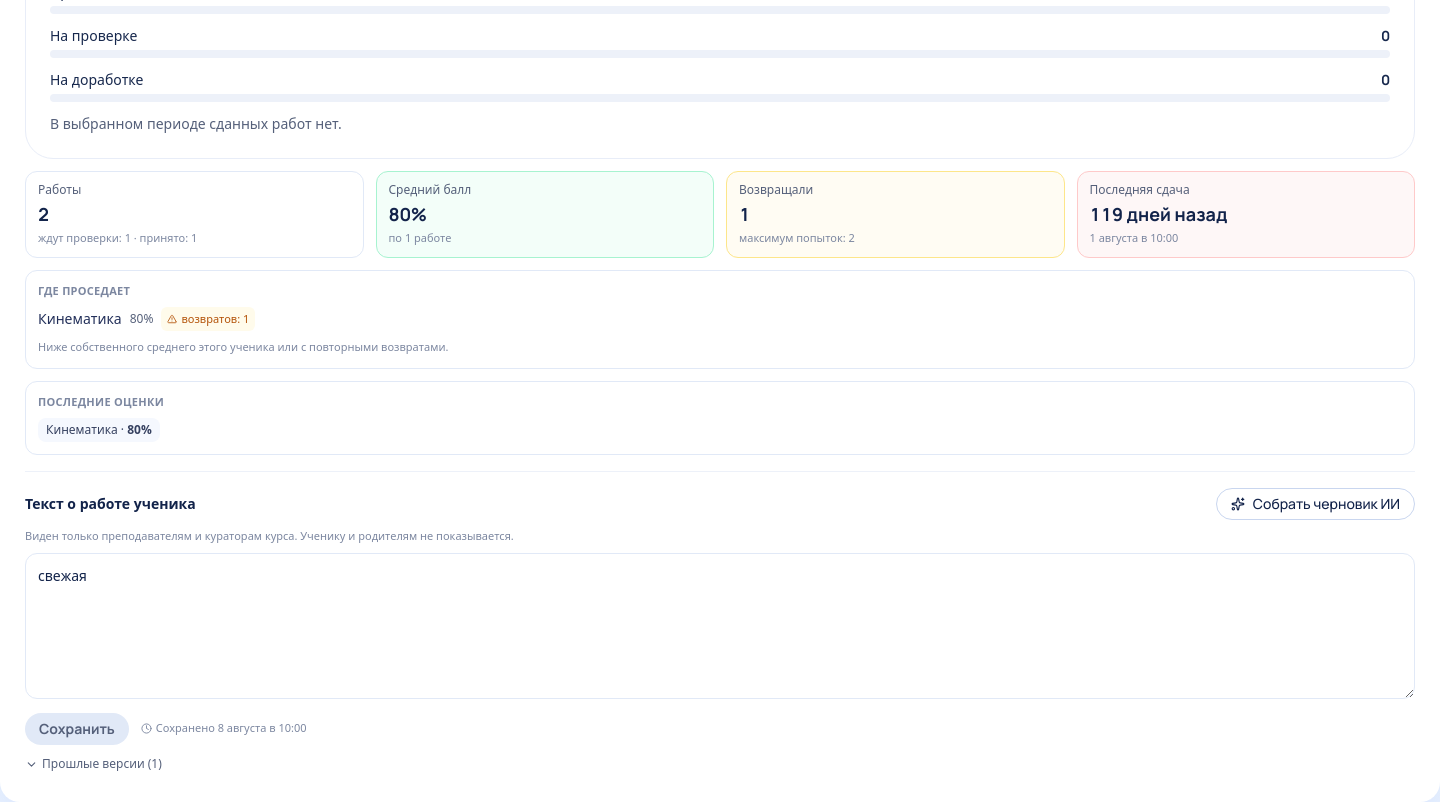
Test case: StudentInsightSection — карточка ученика › прошлые версии показывает по запросу, а не разворачивает сразу
(page scrolled)
Click the button "Прошлые версии (1)": (93, 764) [25,756,162,772]
(page scrolled)
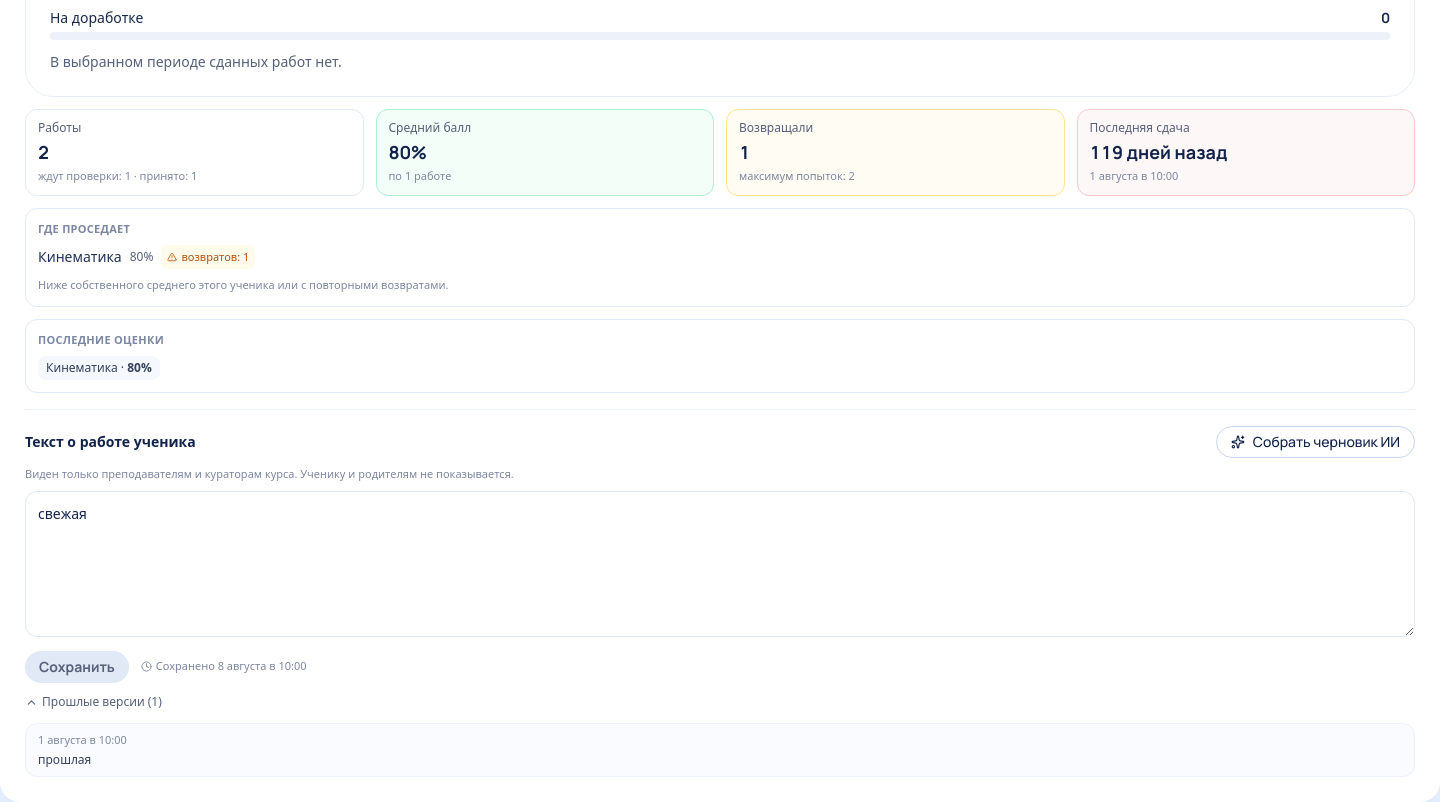
Check: the list with test id "student-feedback-history" shows "прошлая", box [38,751,91,768]
